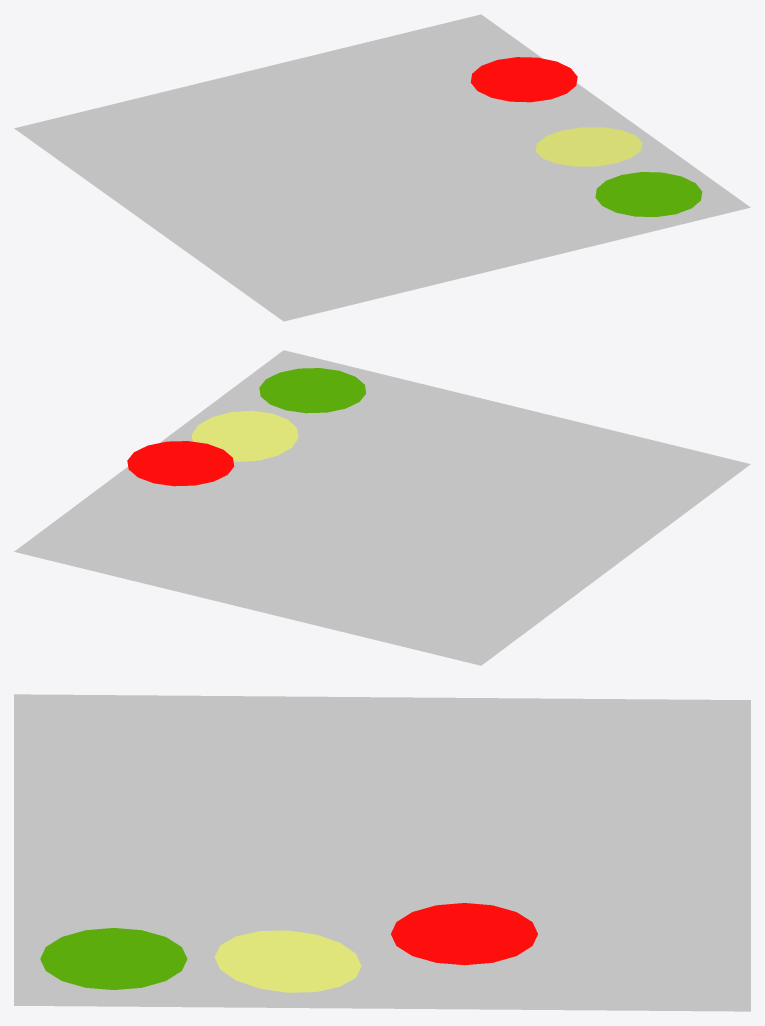
File: healthcardred.glb
3 renders of one model, top to bottom at view 1: azimuth 30°, elevation 25°; view 2: azimuth 150°, elevation 25°; view 3: azimuth 270°, elevation 25°, orthographic. The views are drawn at different scales.
Visible parts, largest first — view 1: Plane, Circle (×3); view 2: Plane, Circle (×3); view 3: Plane, Circle (×3).
Part boxes in pixels (x1,y1,x2,y2): Plane: (14,14,750,321); Circle (×3): (470,57,702,217); Plane: (14,350,750,665); Circle (×3): (127,368,366,486); Plane: (14,694,750,1011); Circle (×3): (40,903,537,992).
Bounding box in the file's own units: 1 × 0.0543 × 1.
